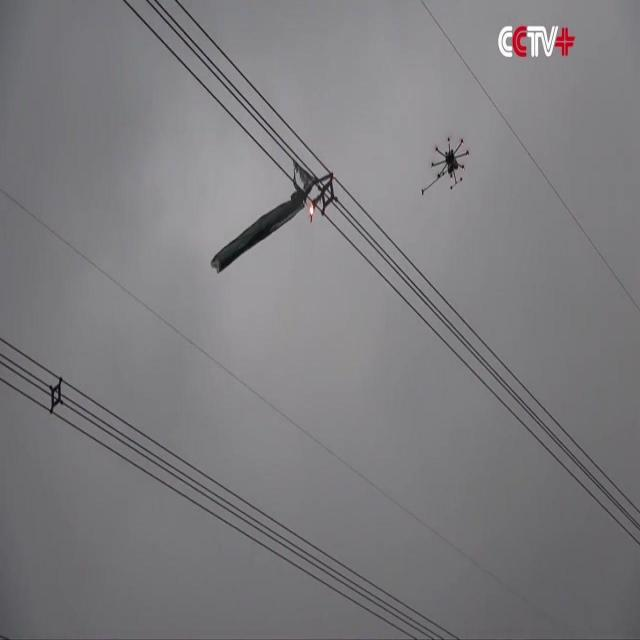UAV: (421, 137, 469, 195)
